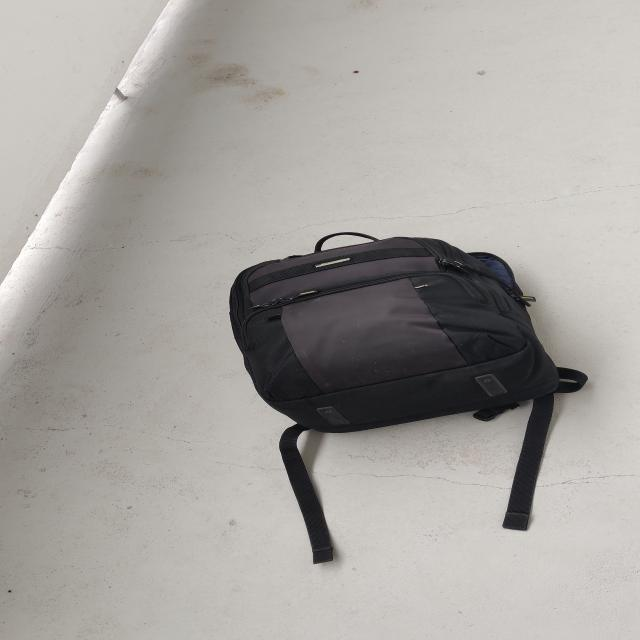backpack: (215, 228, 570, 446)
